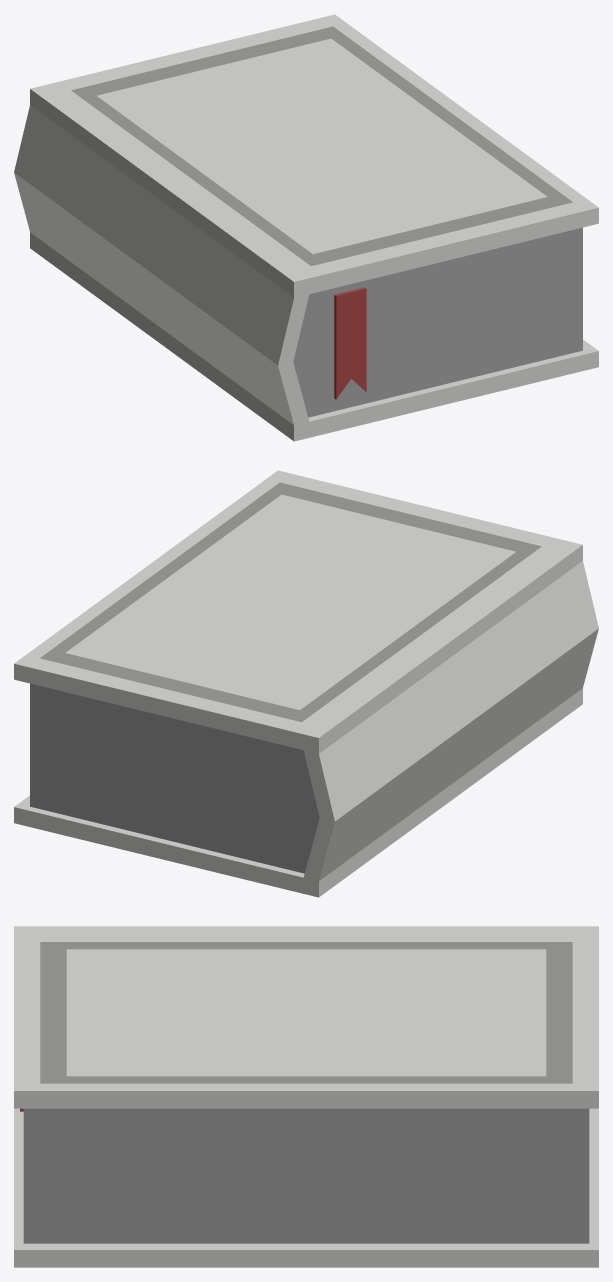
The model's file is Book_1_White.fbx.
3 views of the same model, one above another, from view 1: azimuth 30°, elevation 25°; view 2: azimuth 150°, elevation 25°; view 3: azimuth 270°, elevation 25° (orthographic). The views are drawn at different scales.
Visible parts, largest first — view 1: Book_1_White_Part_1, Book_1_White_Part_3, Book_1_White_Part_2, Book_1_White_Part_4; view 2: Book_1_White_Part_1, Book_1_White_Part_3, Book_1_White_Part_2; view 3: Book_1_White_Part_1, Book_1_White_Part_3, Book_1_White_Part_2.
Part boxes in pixels (x1,y1,x2,y2): Book_1_White_Part_1: (14,14,598,441); Book_1_White_Part_3: (293,227,582,417); Book_1_White_Part_2: (71,26,572,266); Book_1_White_Part_4: (334,287,366,399); Book_1_White_Part_1: (14,470,598,897); Book_1_White_Part_3: (30,683,319,873); Book_1_White_Part_2: (40,482,541,722); Book_1_White_Part_1: (14,926,598,1267); Book_1_White_Part_3: (23,1108,589,1243); Book_1_White_Part_2: (40,942,572,1083).
Size of the model in its own units: 21.06 by 10 by 30.
